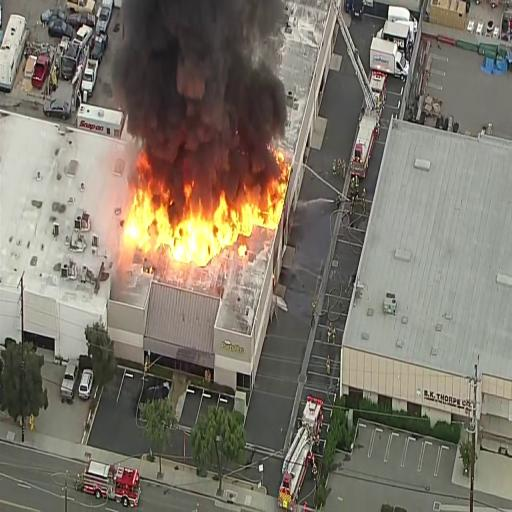fire: (126, 158, 172, 264), (224, 171, 287, 238), (171, 196, 228, 264)
smoke: (129, 0, 268, 162)
